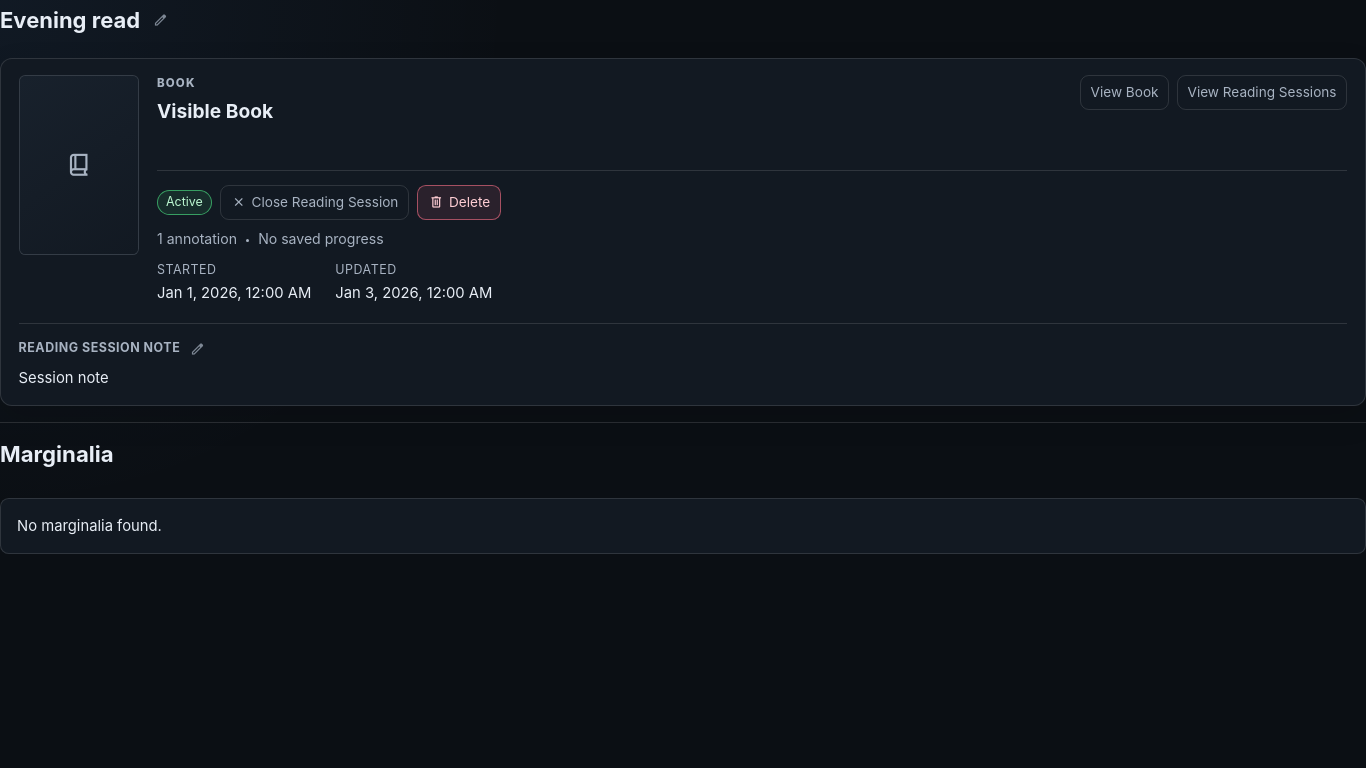
Test: MarginaliaSessionDetailOrchestrator › reports a download failure and permits export retry
Click the button "Delete": [459, 202] box x1=417 y1=185 x2=501 y2=220
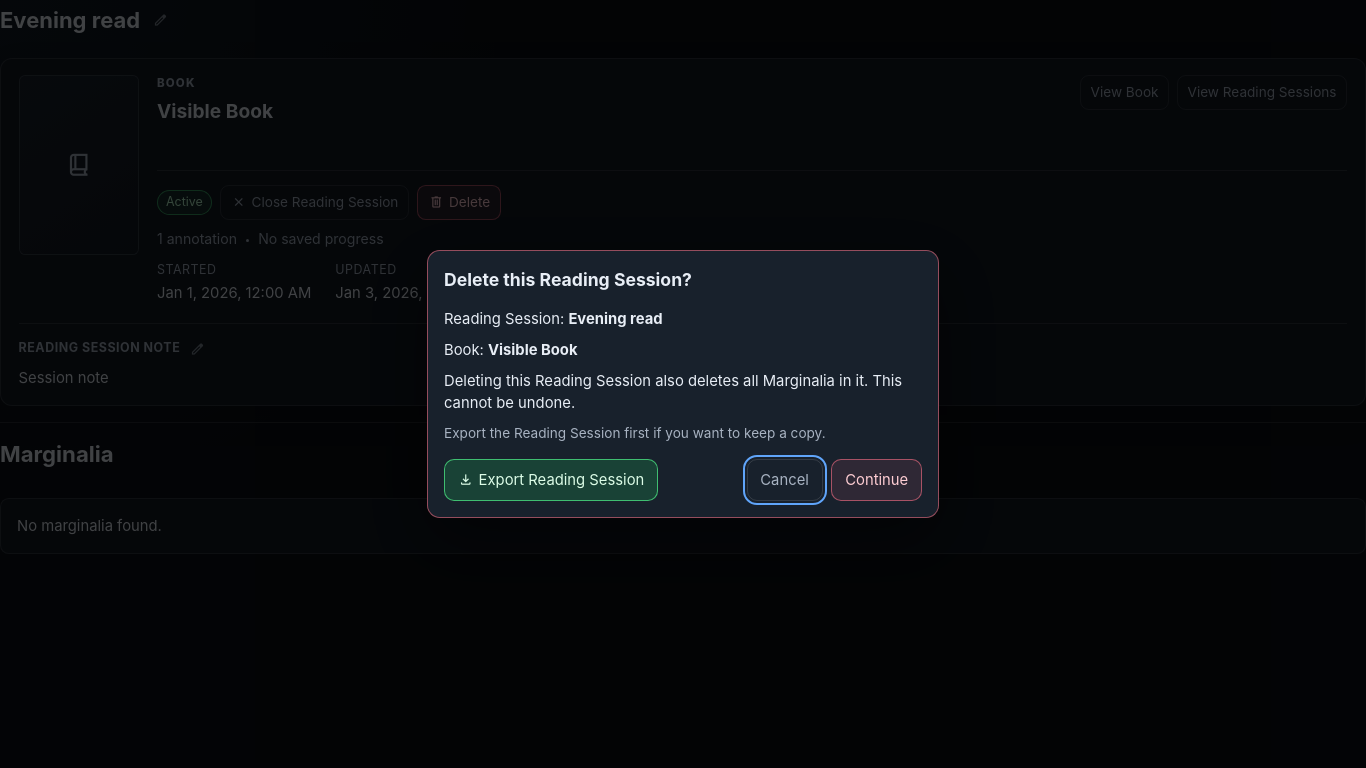
Click the button "Export Reading Session": [551, 480] box x1=444 y1=459 x2=658 y2=501
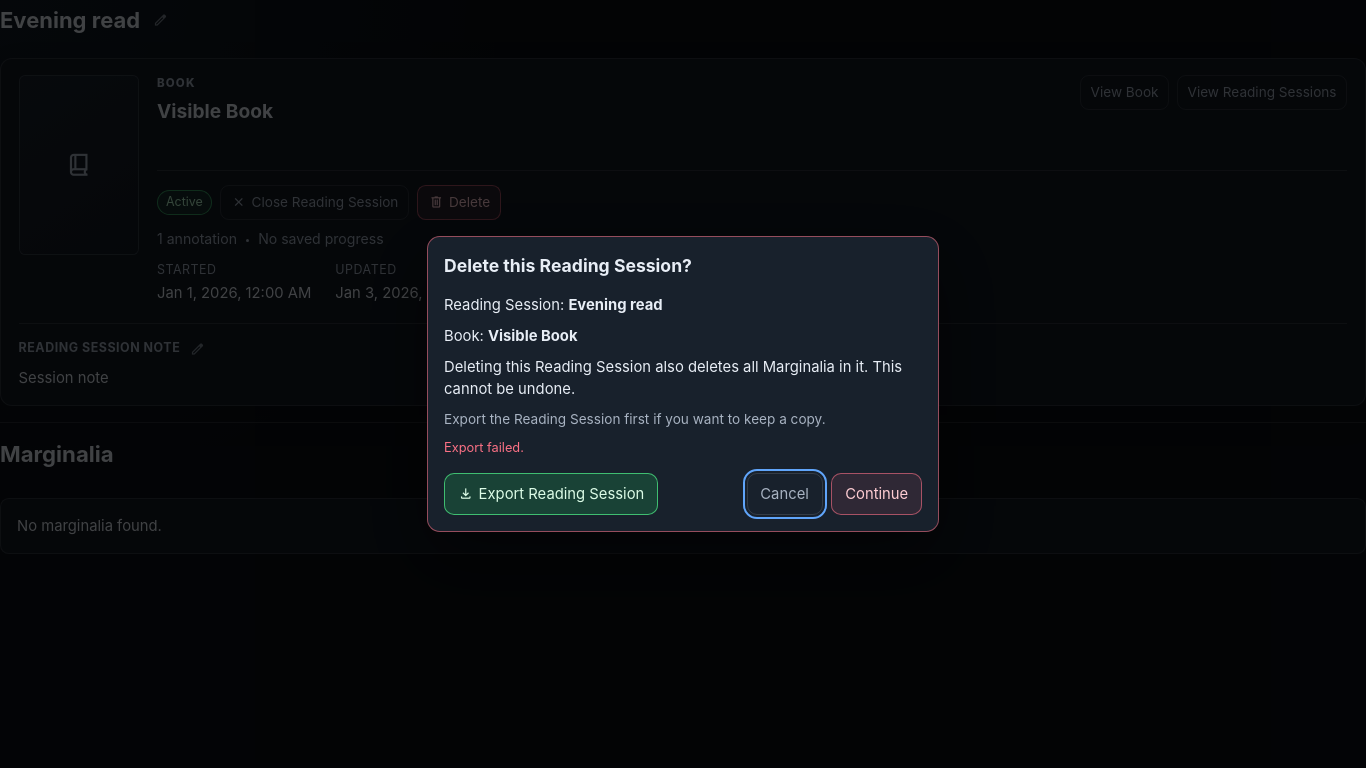
Now the button "Export Reading Session" is enabled
Now the message "Export failed." is shown, box x1=444 y1=440 x2=524 y2=455
Click the button "Export Reading Session": [551, 494] box x1=444 y1=473 x2=658 y2=515
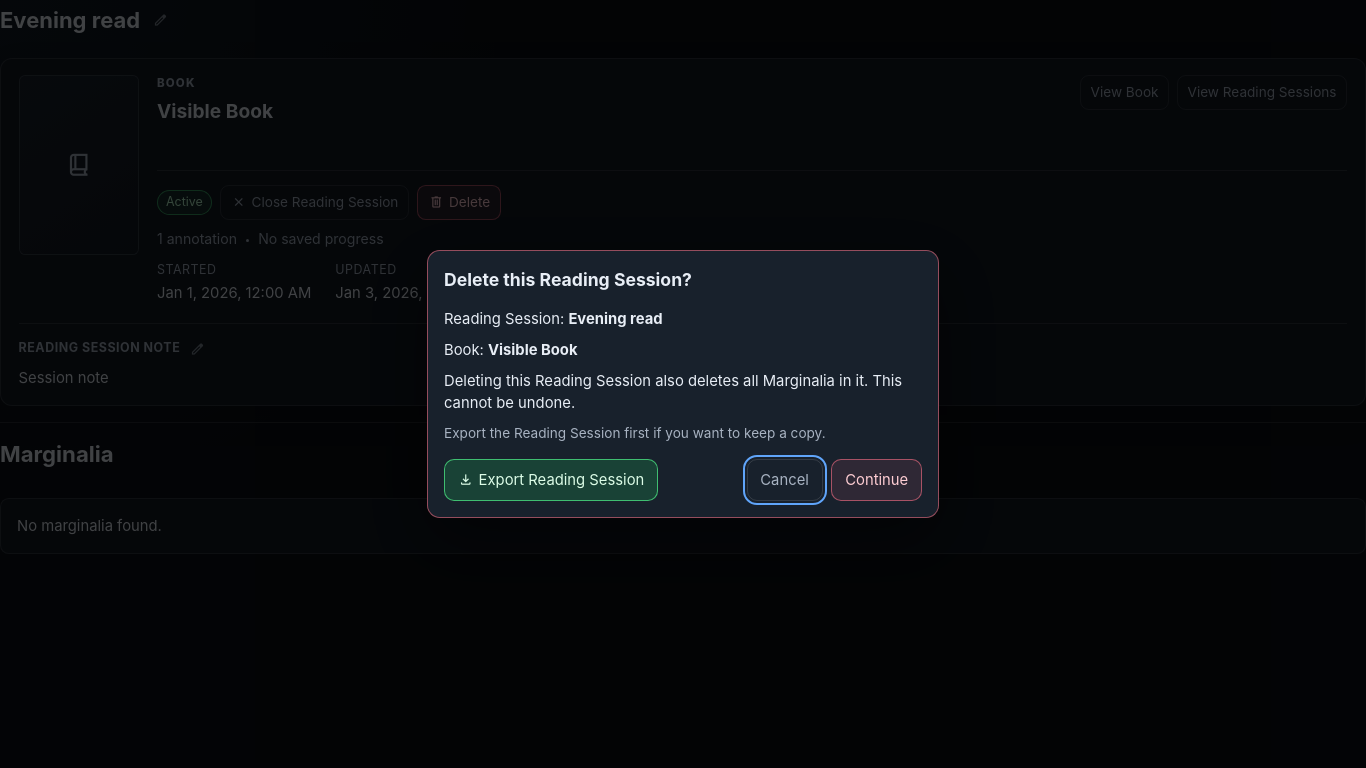
Now the message "Export failed." is gone
